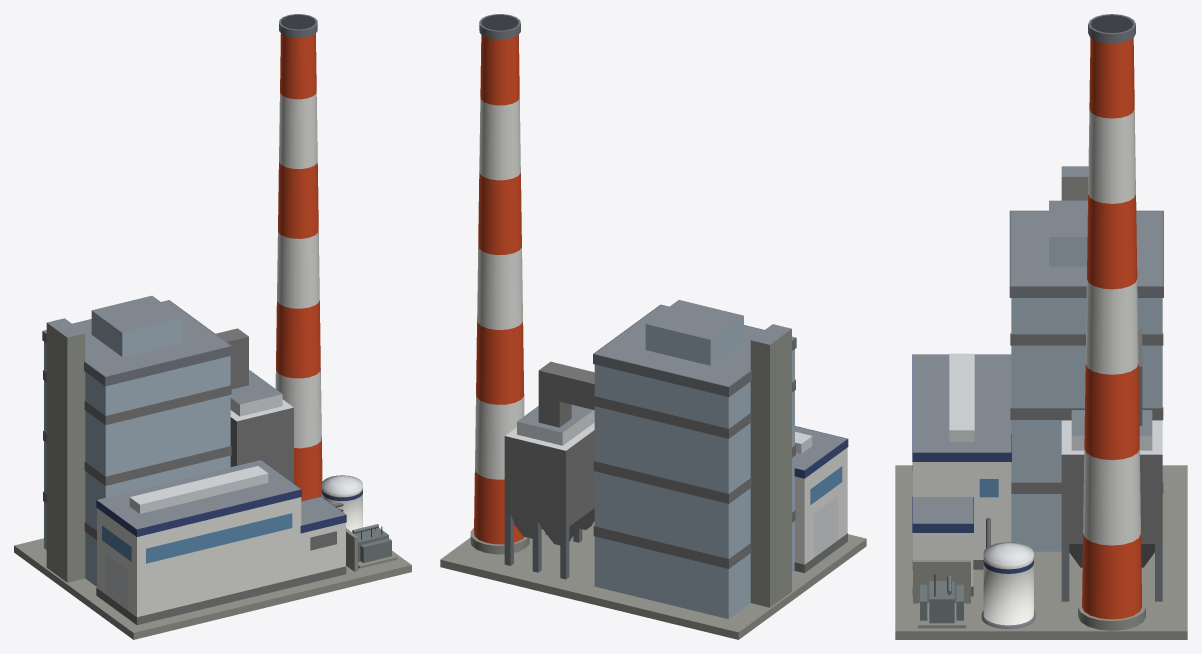
File: mashup-main-top-prebuilt.fbx
3 views of the same model, side by side, from view 1: azimuth 30°, elevation 25°; view 2: azimuth 150°, elevation 25°; view 3: azimuth 270°, elevation 25° (orthographic). The views are drawn at different scales.
Parts seen in each view (by area): view 1: a1056/0/mashup-main-top-prebuilt; view 2: a1056/0/mashup-main-top-prebuilt; view 3: a1056/0/mashup-main-top-prebuilt.
Part boxes in pixels (box(x1,y1,x2,y2)): a1056/0/mashup-main-top-prebuilt: box(14, 14, 411, 639); a1056/0/mashup-main-top-prebuilt: box(440, 14, 866, 639); a1056/0/mashup-main-top-prebuilt: box(895, 14, 1187, 639).
Size of the model in its own units: 31.2 by 52.6 by 23.2.
